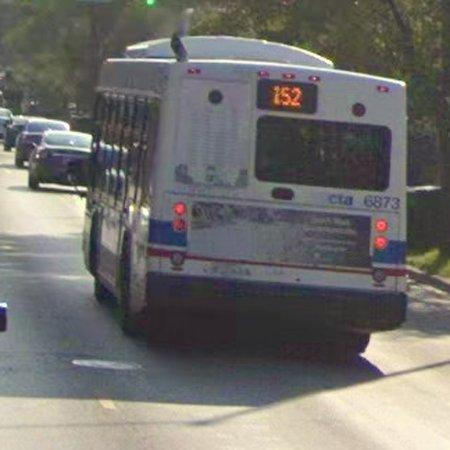buses: (84, 36, 408, 354)
